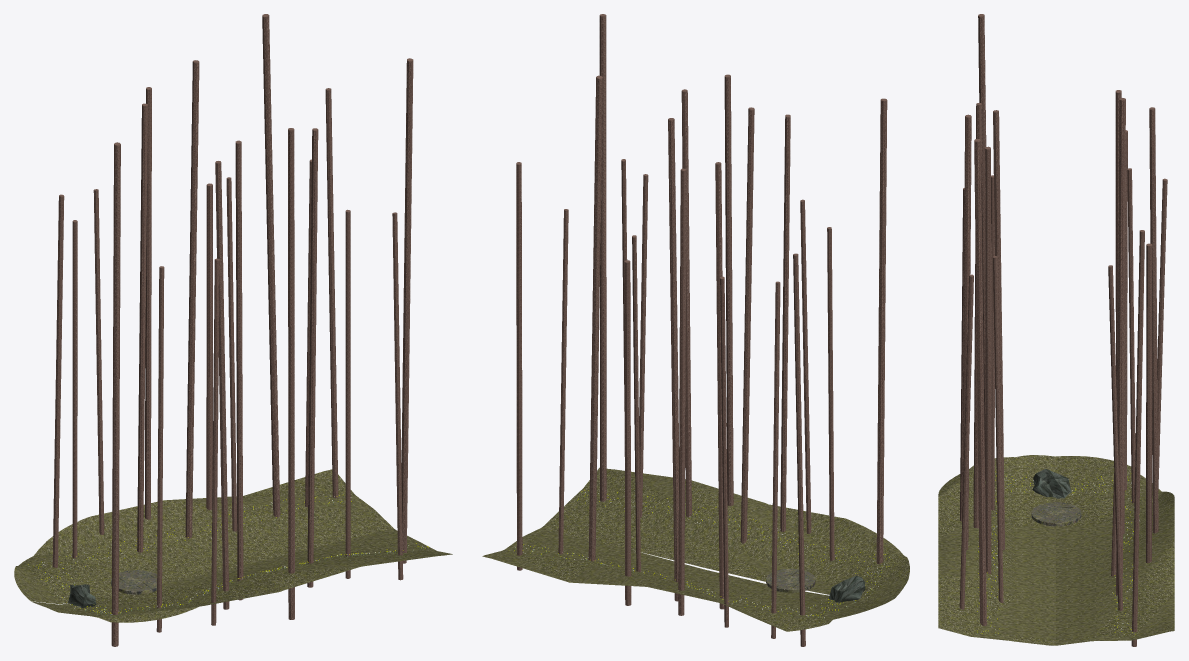
Rendered from forest26.glb.
3 views of the same model, side by side, from view 1: azimuth 30°, elevation 25°; view 2: azimuth 150°, elevation 25°; view 3: azimuth 270°, elevation 25° (orthographic). The views are drawn at different scales.
Visible parts, largest first — view 1: Trees, Landscape.1, Cylinder; view 2: Trees, Landscape.1, Sphere.8, Cylinder; view 3: Trees, Landscape.1, Sphere.8, Cylinder.
Part boxes in pixels (x1=…): Trees: x1=52, y1=14, x2=413, y2=646; Landscape.1: x1=14, y1=469, x2=452, y2=622; Cylinder: x1=111, y1=570, x2=157, y2=591; Trees: x1=516, y1=14, x2=887, y2=646; Landscape.1: x1=482, y1=467, x2=909, y2=631; Sphere.8: x1=828, y1=575, x2=865, y2=602; Cylinder: x1=766, y1=568, x2=815, y2=589; Trees: x1=959, y1=14, x2=1167, y2=646; Landscape.1: x1=938, y1=455, x2=1174, y2=645; Sphere.8: x1=1032, y1=469, x2=1071, y2=498; Cylinder: x1=1031, y1=502, x2=1080, y2=522.
Size of the model in its own units: 227 by 319 by 131.
7 materials, 4 textured.
